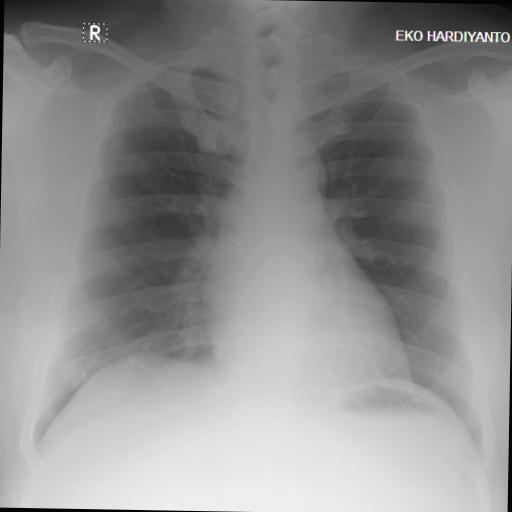normal: (24, 22, 503, 478)
